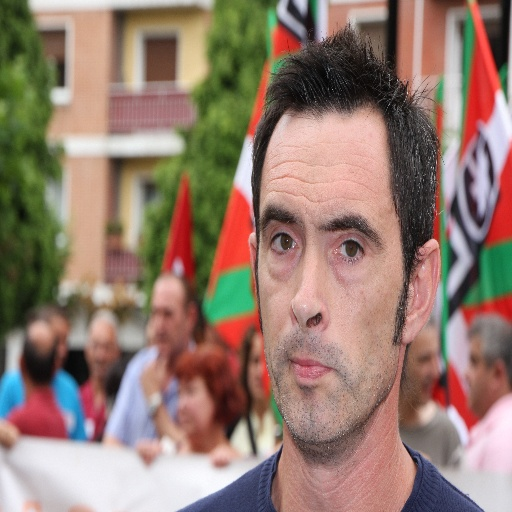hand: (138, 351, 169, 399), (134, 438, 162, 464), (206, 442, 236, 466)
